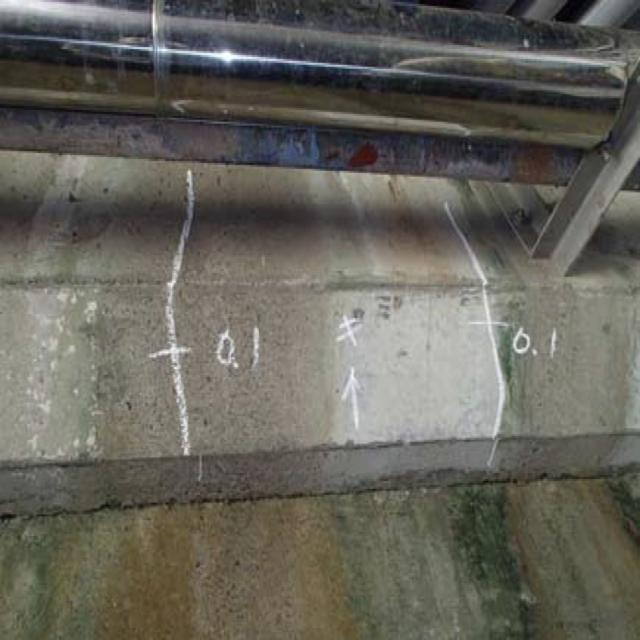crack: (440, 212, 510, 472), (150, 170, 203, 476)
